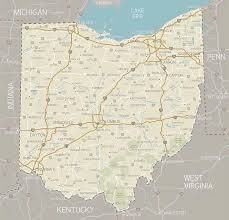ohio: (22, 19, 208, 208)
